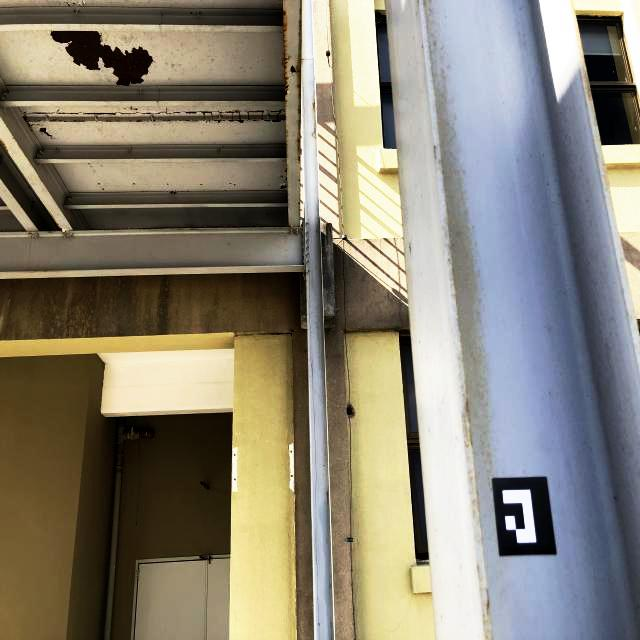Corrosion: (50, 31, 153, 86), (283, 9, 290, 101), (209, 119, 284, 124), (50, 213, 63, 231), (39, 126, 54, 139), (279, 168, 287, 189), (290, 63, 301, 76), (48, 119, 86, 122), (0, 138, 8, 151), (286, 132, 288, 158), (168, 190, 175, 194), (312, 103, 315, 110)
